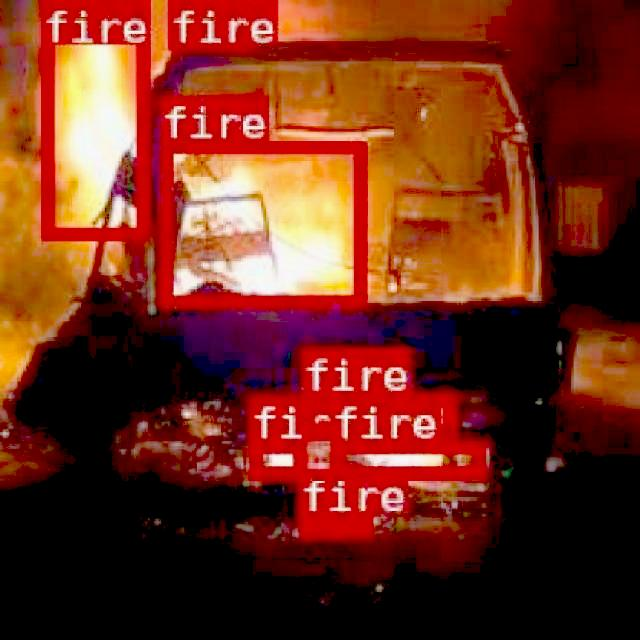fire: (158, 137, 364, 305), (38, 0, 144, 235), (300, 393, 454, 433), (329, 438, 483, 477), (166, 0, 254, 45), (247, 438, 304, 476), (298, 512, 370, 536)
